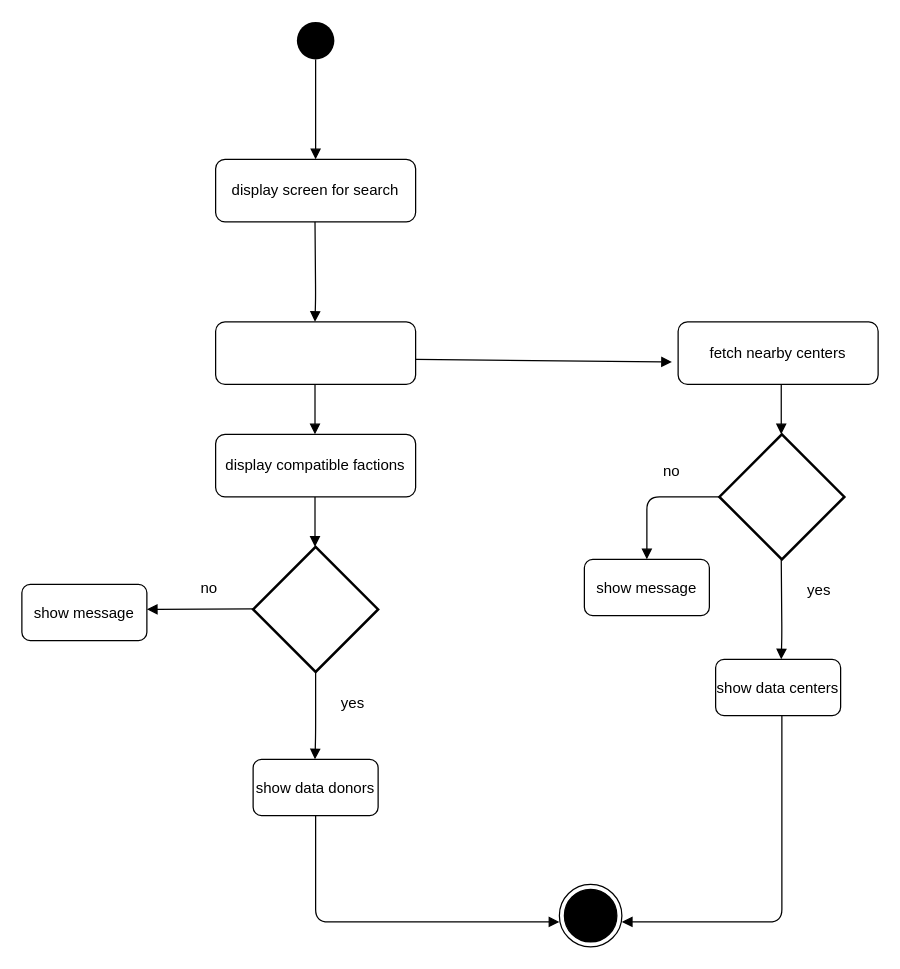
This 900x969 diagram has some shape labels left out. The shapes that lost their labels are listed below. From the top down, each one's centre as x and y in pixels, then its label:
At (315,352): "enter data city,state,typeblood".
At (781,496): "found data".
At (315,608): "check found".
